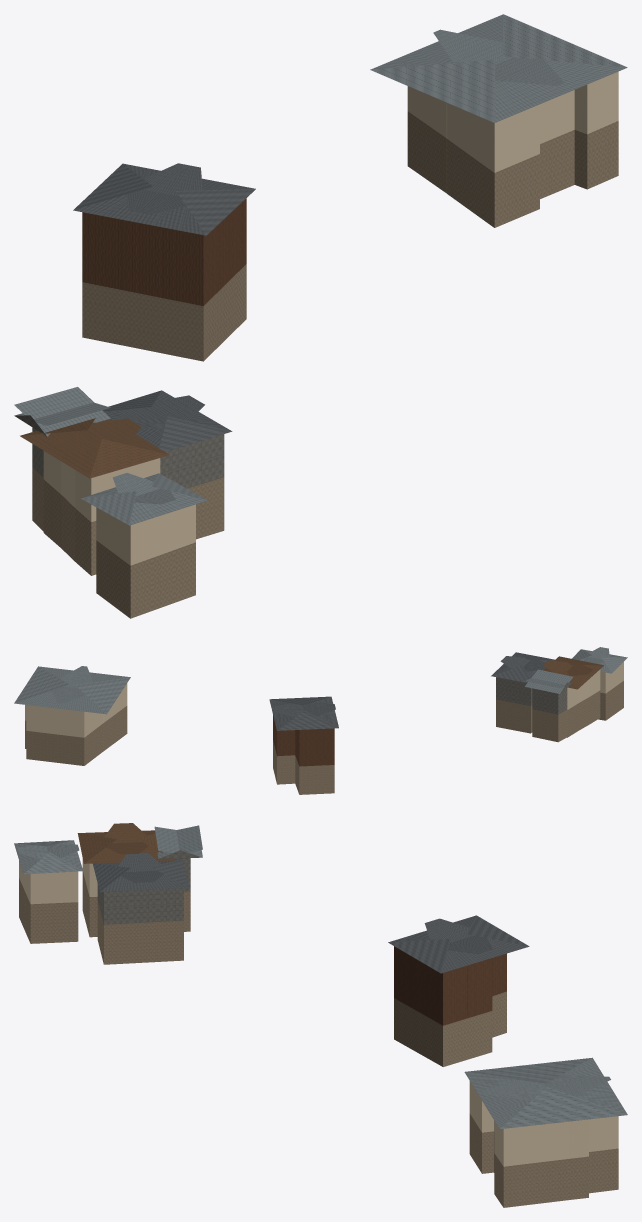
The model's file is bld_c33_-40_442.gltf.
3 renders of one model, top to bottom at view 1: azimuth 30°, elevation 25°; view 2: azimuth 150°, elevation 25°; view 3: azimuth 270°, elevation 25°, orthographic. The views are drawn at different scales.
Parts seen in each view (by area): view 1: bld_c33_-40_442; view 2: bld_c33_-40_442; view 3: bld_c33_-40_442.
Part boxes in pixels (box(x1,y1,x2,y2)): bld_c33_-40_442: box(14, 14, 627, 618); bld_c33_-40_442: box(14, 647, 627, 794); bld_c33_-40_442: box(14, 823, 627, 1207).
Bounding box in the file's own units: 80.26 × 12.9 × 68.58.
8 materials, 8 textured.
